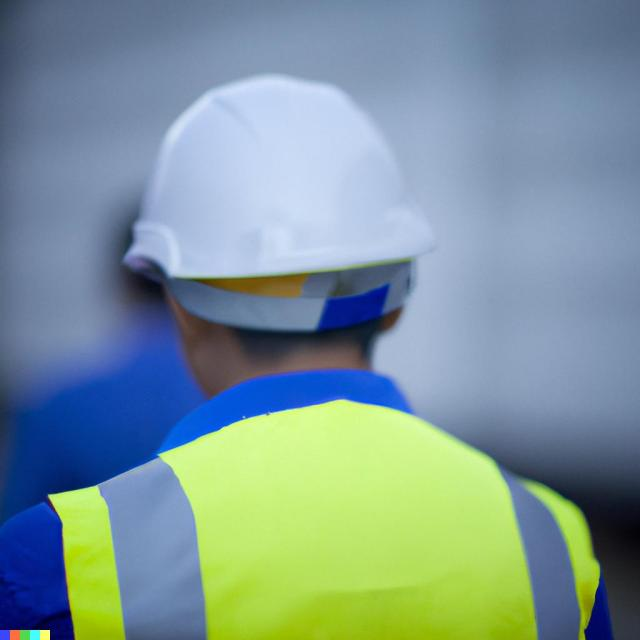Reflective-Jacket: (15, 409, 602, 636)
Safety-Helmet: (119, 67, 444, 287)
